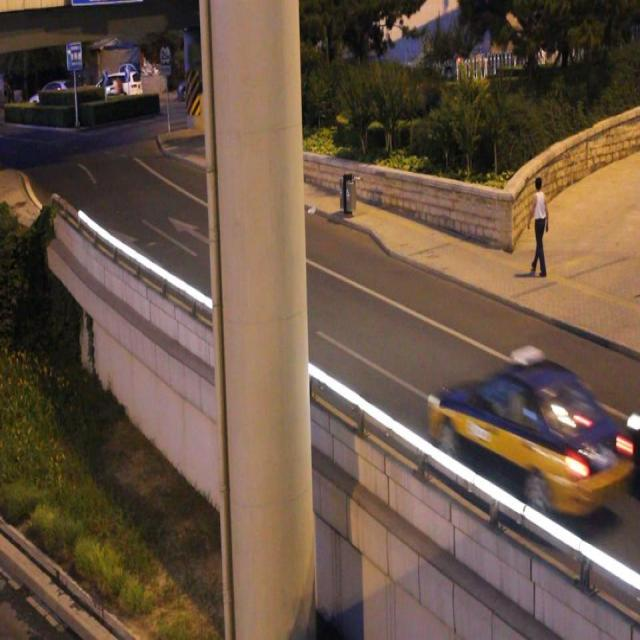car: (431, 364, 618, 512)
